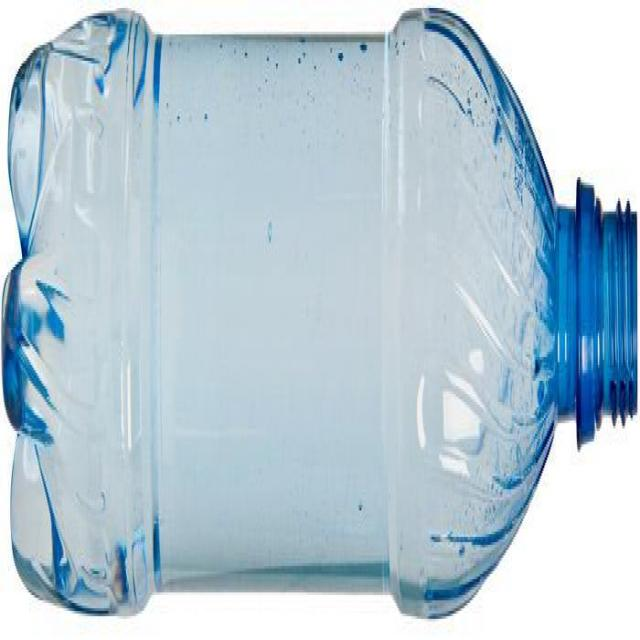plastic_bottle: (9, 11, 638, 640)
